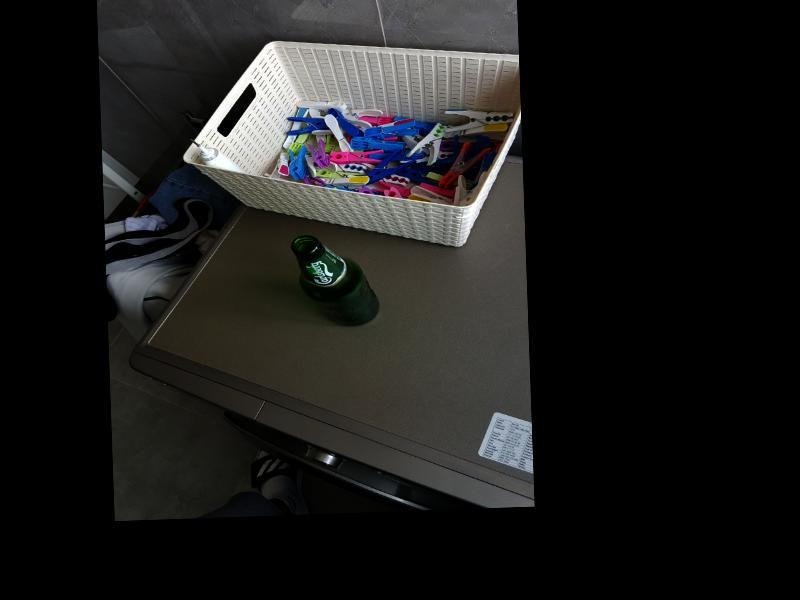Beer: (290, 234, 378, 329)
